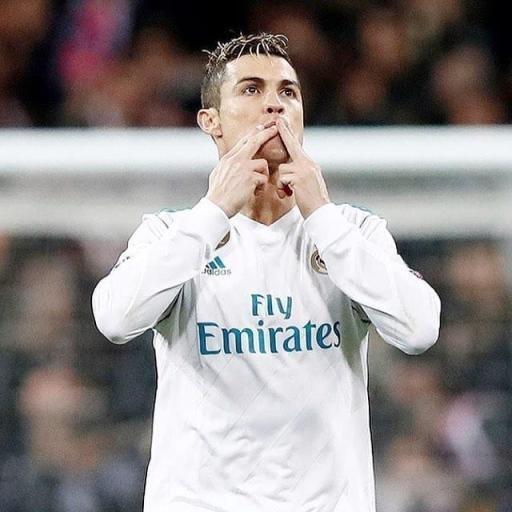Adidas: (200, 250, 234, 278)
Emirates: (194, 290, 343, 356)
